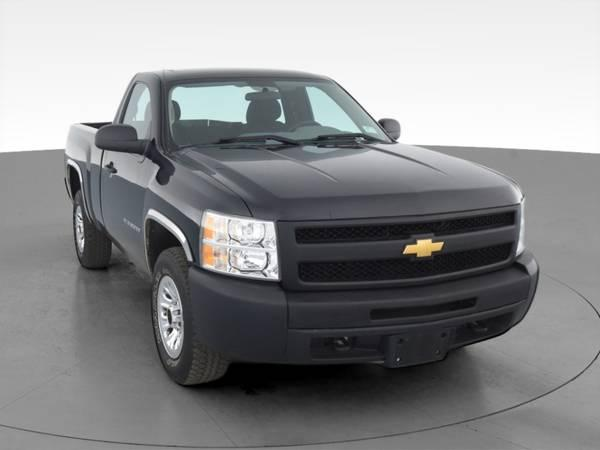Front_Bumper: (189, 246, 544, 364)
Front_Fender: (145, 150, 255, 267)
Front_Right_Door: (104, 138, 165, 271)
Front_Right_Window: (110, 75, 166, 158)
Front_Windshield: (163, 72, 397, 149)
Grille: (278, 200, 525, 286)
Hood: (180, 142, 526, 224)
Rear_Fender: (60, 122, 108, 224)
Right_Headlight: (201, 211, 283, 281)
Wheel: (146, 248, 227, 393), (70, 190, 113, 275)
